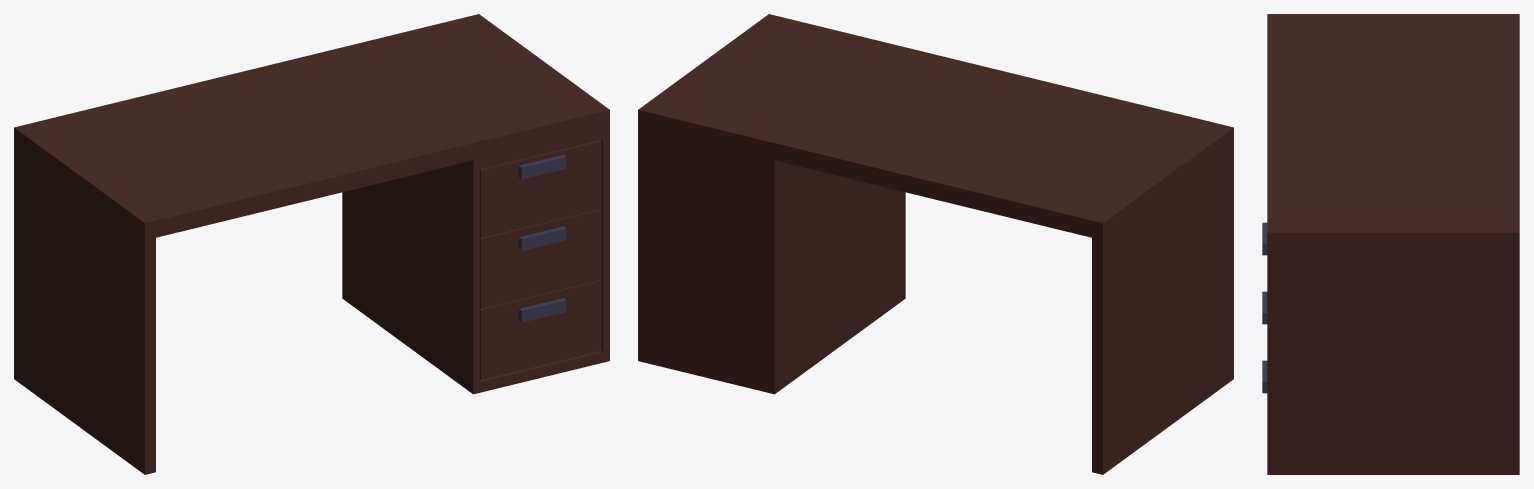
The model's file is DeskWood.glb.
3 renders of one model, left to right at view 1: azimuth 30°, elevation 25°; view 2: azimuth 150°, elevation 25°; view 3: azimuth 270°, elevation 25°, orthographic. The views are drawn at different scales.
Visible parts, largest first — view 1: Desk; view 2: Desk; view 3: Desk.
Part boxes in pixels (x1,y1,x2,y2): Desk: (14, 14, 609, 474); Desk: (638, 14, 1233, 474); Desk: (1262, 14, 1519, 474).
Size of the model in its own units: 1.55 by 0.8041 by 0.7735.
1 material, 1 textured.
